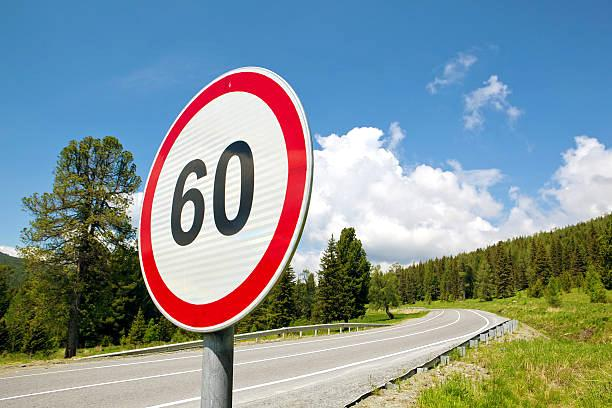Speed Limit -60-: (134, 62, 315, 336)
